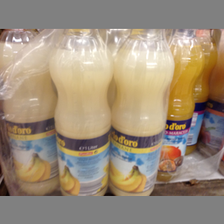juice: (110, 29, 176, 197), (50, 30, 113, 196), (1, 29, 63, 194)
